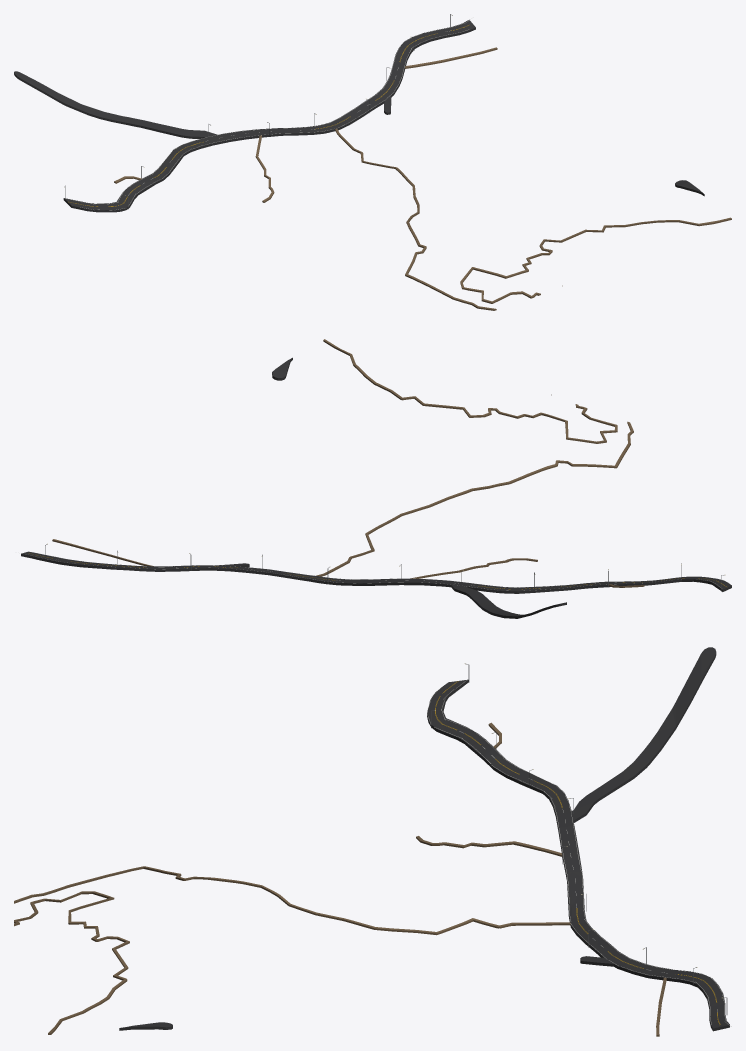
The model's file is 17-109442-59449.78276fde.glb.
3 views of the same model, one above another, from view 1: azimuth 30°, elevation 25°; view 2: azimuth 150°, elevation 25°; view 3: azimuth 270°, elevation 25° (orthographic). The views are drawn at different scales.
Size of the model in its own units: 297 by 51.86 by 277.
